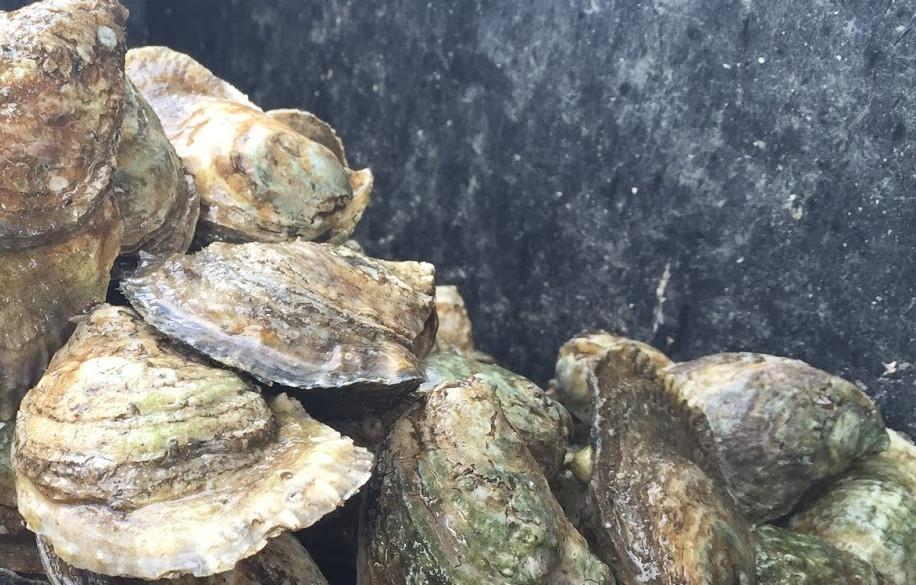Oyster-Closed: (11, 304, 373, 580), (356, 376, 617, 585), (123, 44, 374, 243), (126, 241, 436, 402), (578, 343, 757, 585), (665, 352, 891, 526), (0, 0, 131, 250), (0, 196, 122, 419), (380, 351, 574, 482), (776, 428, 916, 585), (111, 76, 201, 280), (38, 533, 329, 585), (551, 334, 675, 429), (749, 525, 891, 585), (0, 419, 45, 574), (263, 110, 347, 165), (430, 285, 478, 359)
